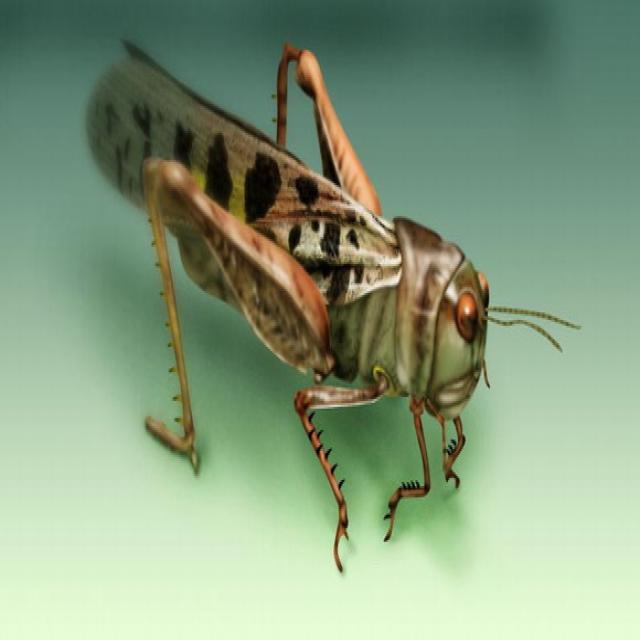ZhaMeng: (66, 17, 528, 505)
